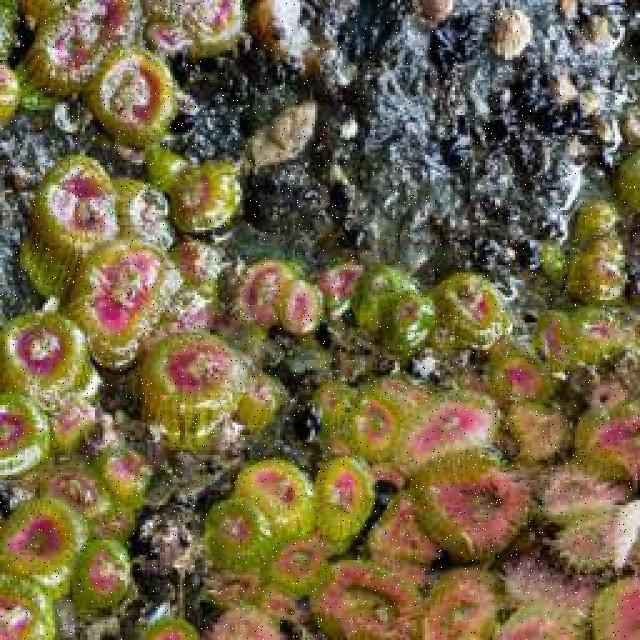reefs: (68, 237, 186, 367), (19, 155, 120, 298), (409, 447, 532, 561), (140, 332, 249, 460), (0, 308, 105, 412), (82, 46, 178, 148), (2, 499, 87, 597), (228, 458, 317, 541), (315, 457, 374, 538)
